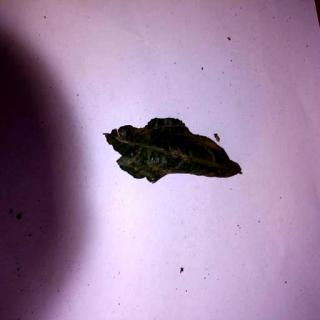Anthracnose: (110, 117, 240, 183)
